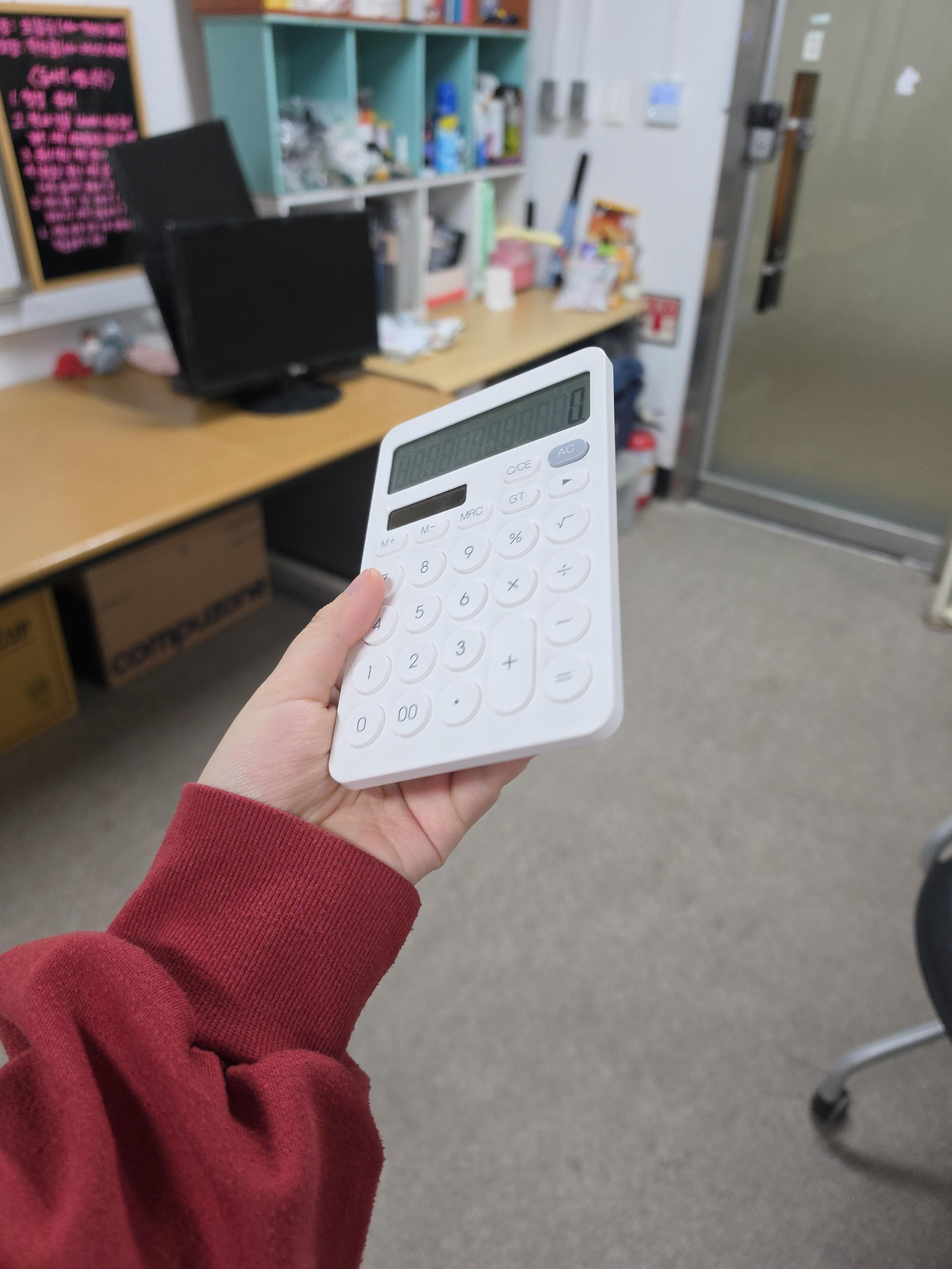calculator: (329, 346, 626, 789)
